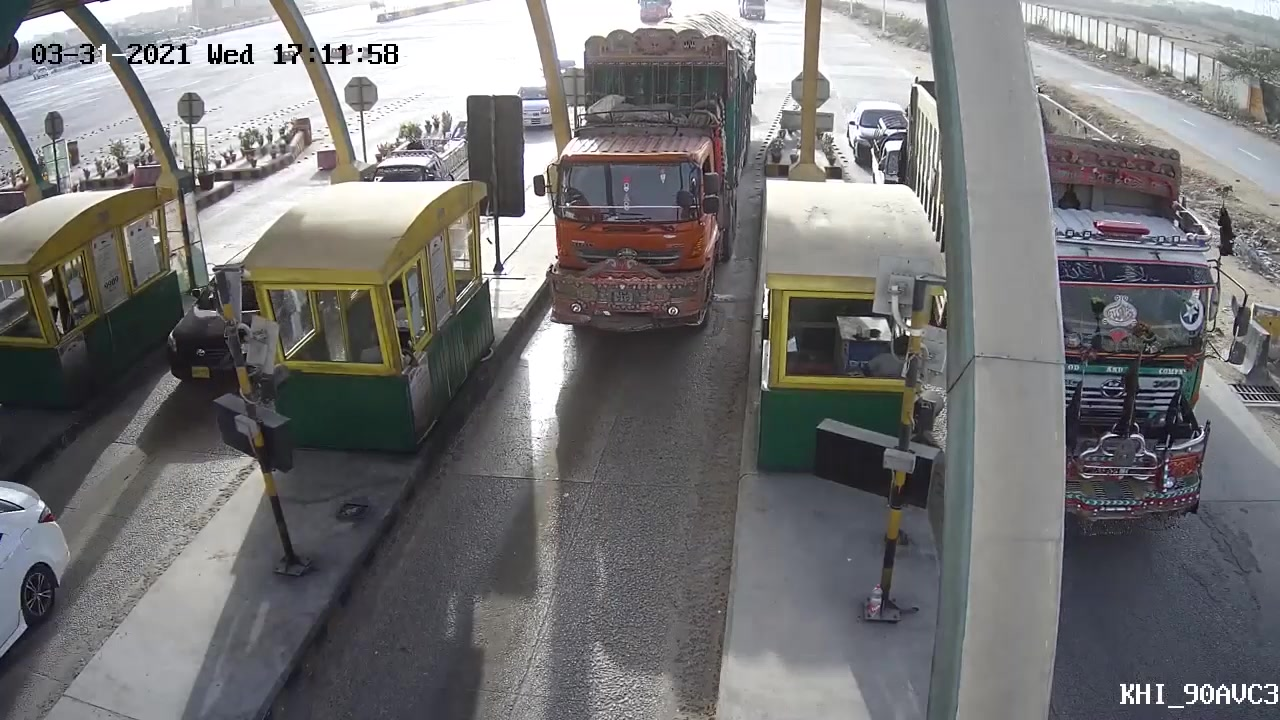F6: (527, 6, 768, 356)
